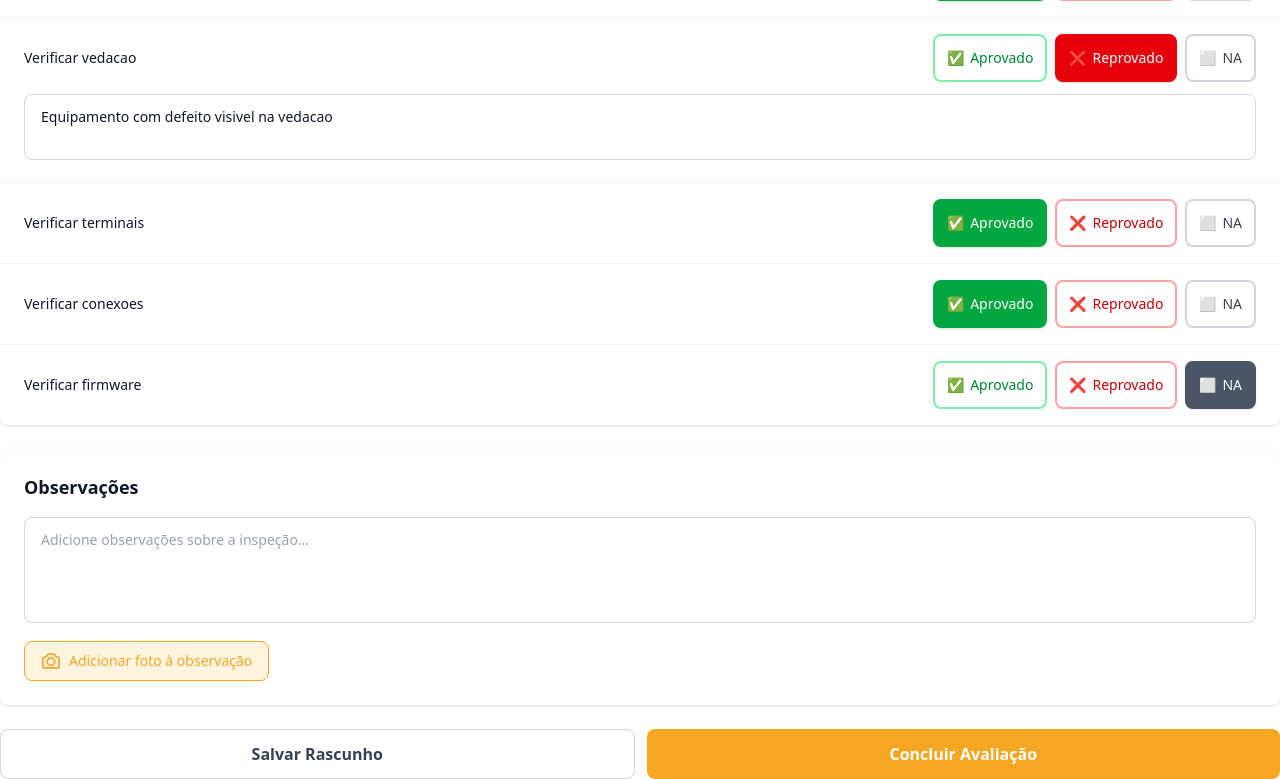
Test: ChecklistForm - Checklist Validation (US-306) › shows confirmation modal with summary when all validations pass
(page scrolled)
Click the button "Concluir Avaliação".
click(963, 754)  # box [646,729,1279,778]
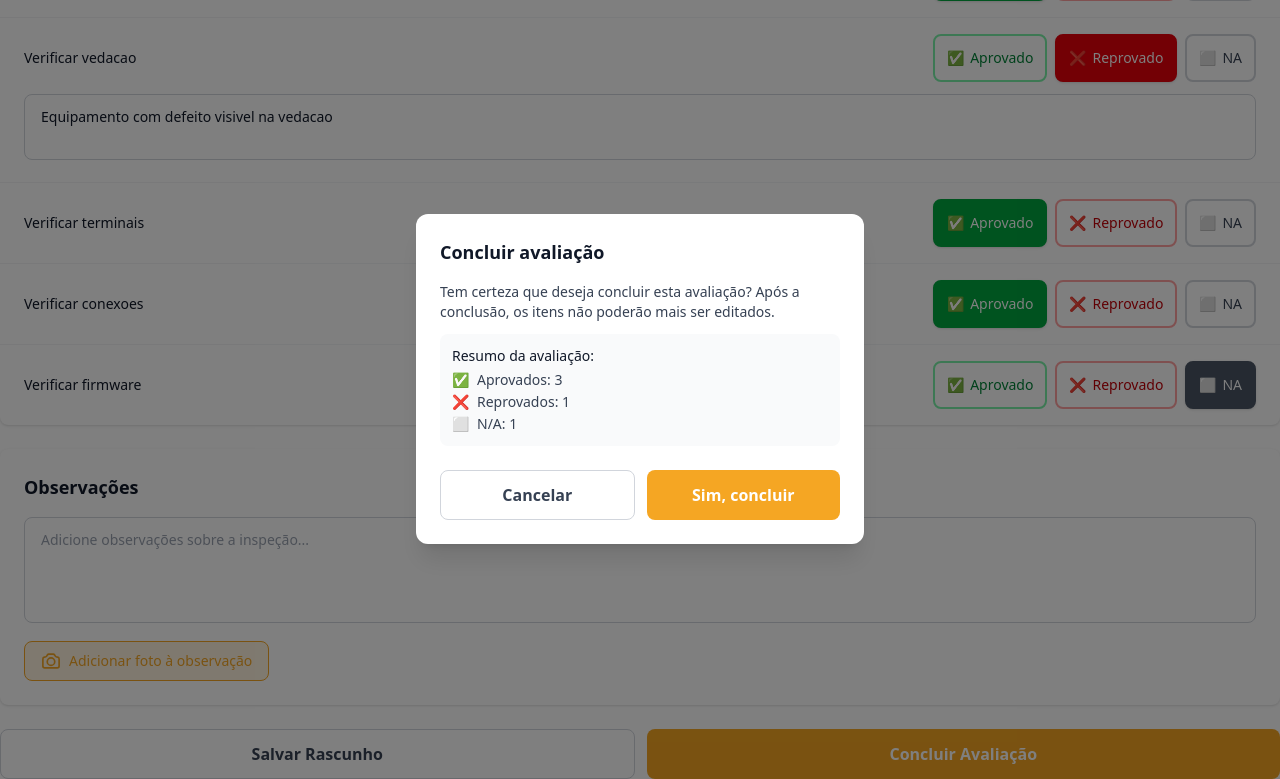
Now the element with test id "summary-counts" is shown, box [440,334,840,446]
Now the text "Aprovados: 3" is shown, box [477,370,562,390]
Now the text "Reprovados: 1" is shown, box [477,392,570,412]
